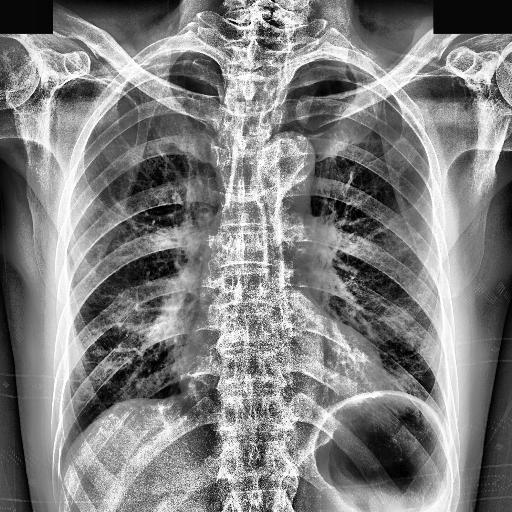0- Aortic enlargement: (250, 122, 314, 212), (256, 132, 312, 182), (266, 130, 316, 178)
13- Pulmonary fibrosis: (98, 172, 136, 228)
3- Cardiomegaly: (174, 346, 384, 416), (172, 339, 384, 393)
5- ILD: (98, 289, 160, 364)
